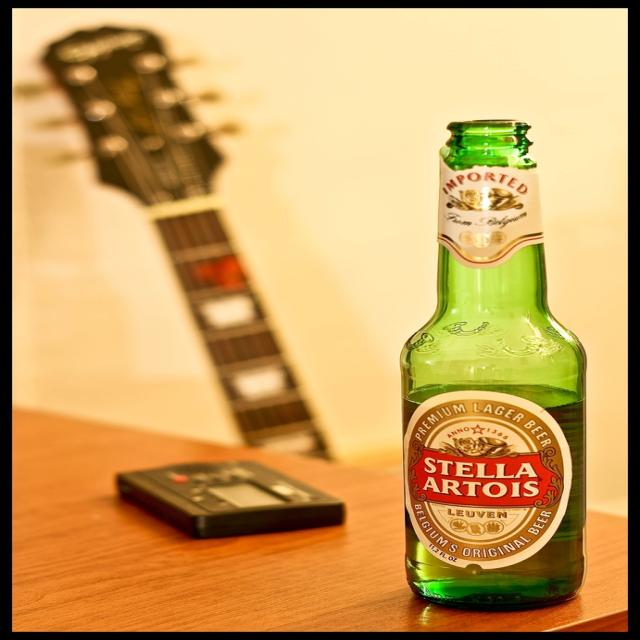stellaartois: (407, 401, 568, 564)
